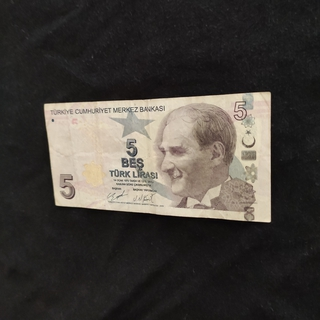5TLFront: (43, 90, 272, 223)
